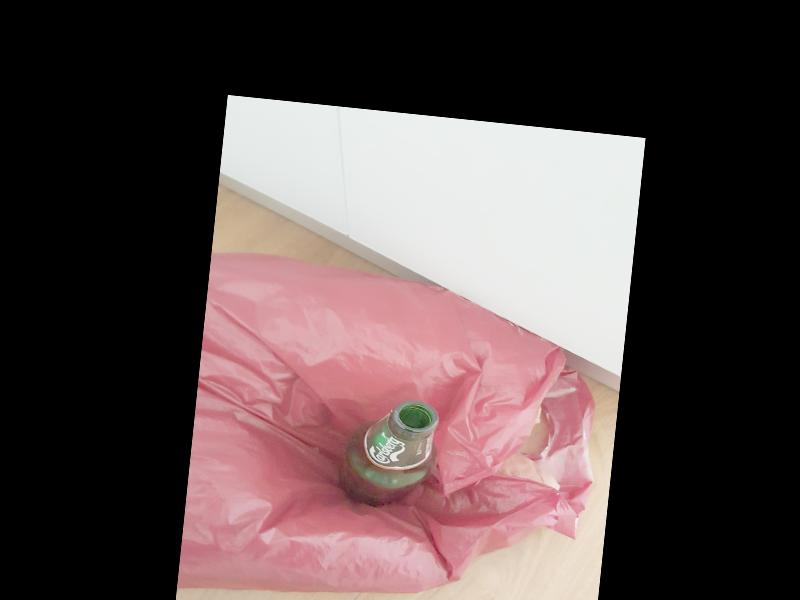Beer: (339, 395, 440, 513)
